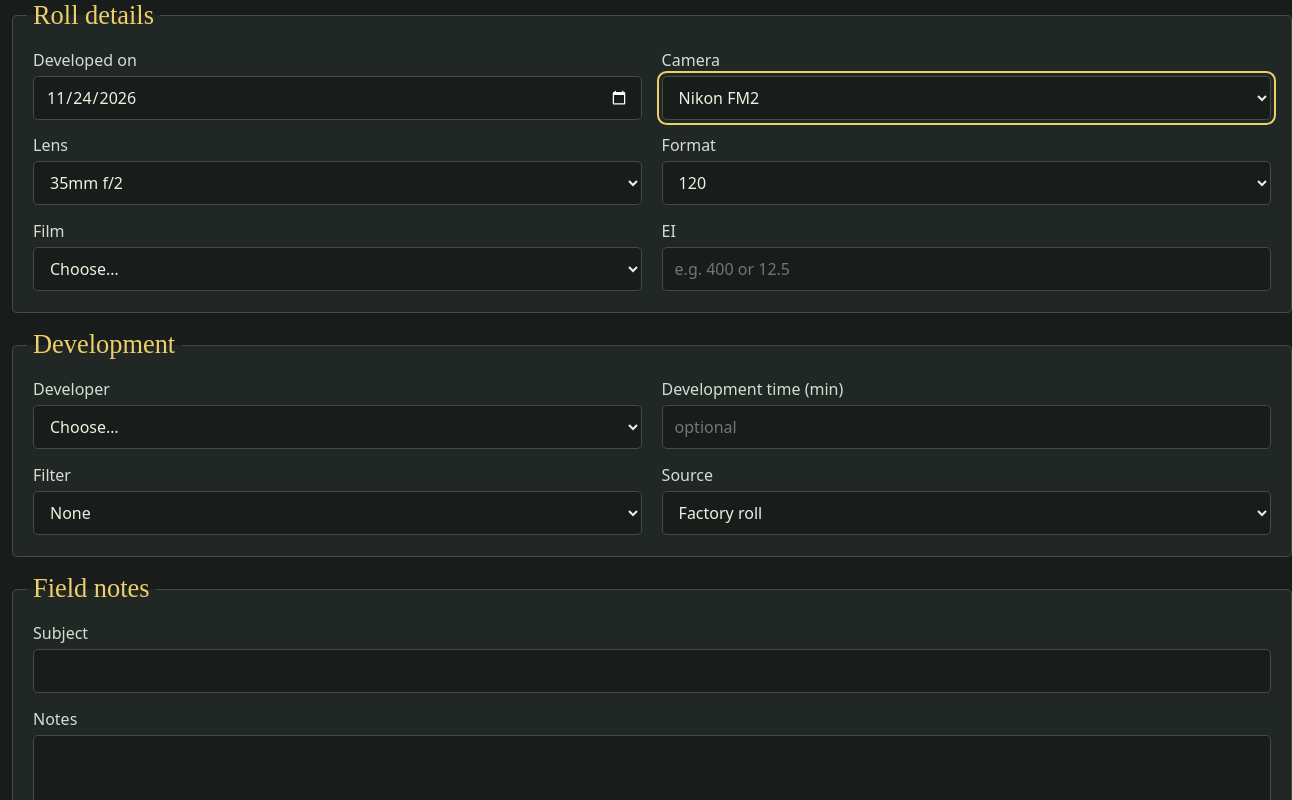
Scenario: after save keeps setup fields and clears subject, notes and dev time
Earlier steps of the test are not shown.
Expected: the dropdown labelled "Lens" shows "35mm f/2", [33, 161, 642, 205]
Step 1. Select "Tri-X" in the dropdown labelled "Film" → (338, 269), box [33, 247, 642, 291]
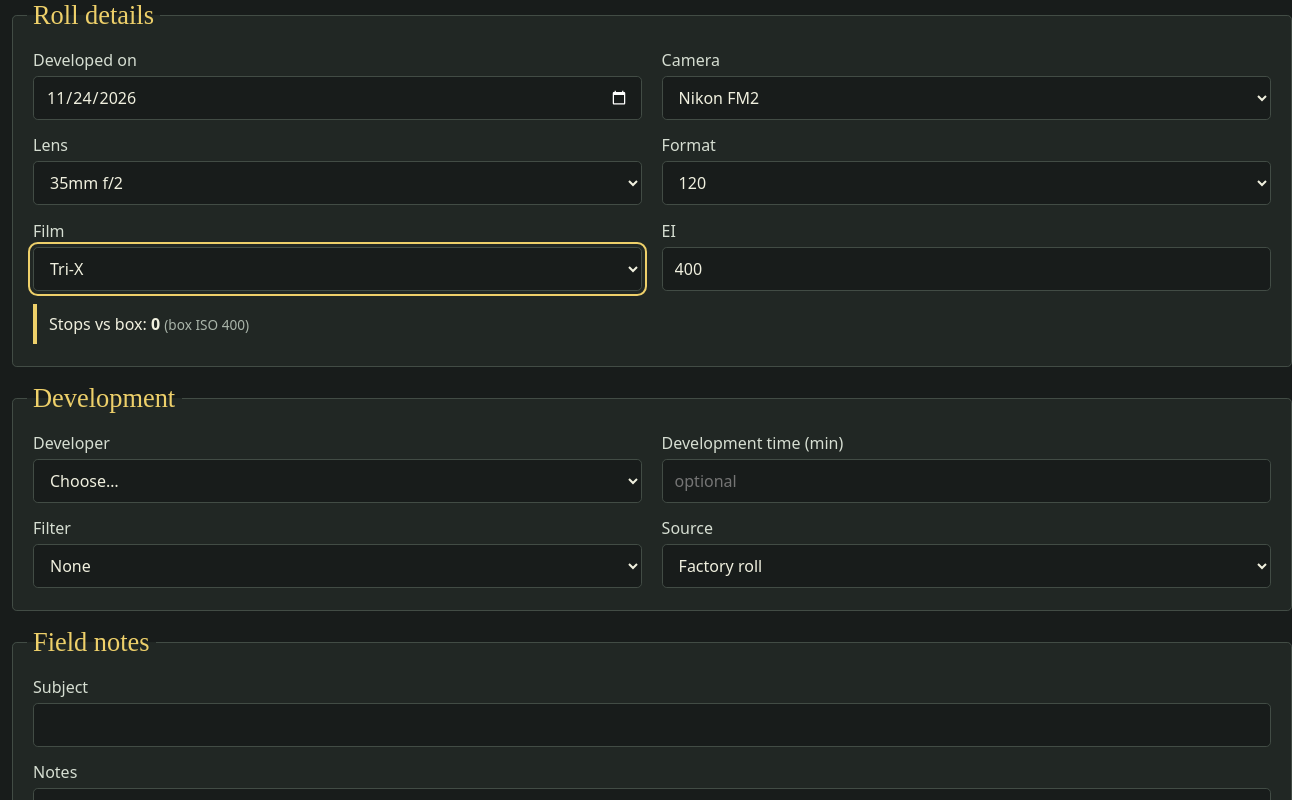
Step 2. Select "HC-110" in the dropdown labelled "Developer" → (338, 481), box [33, 459, 642, 503]
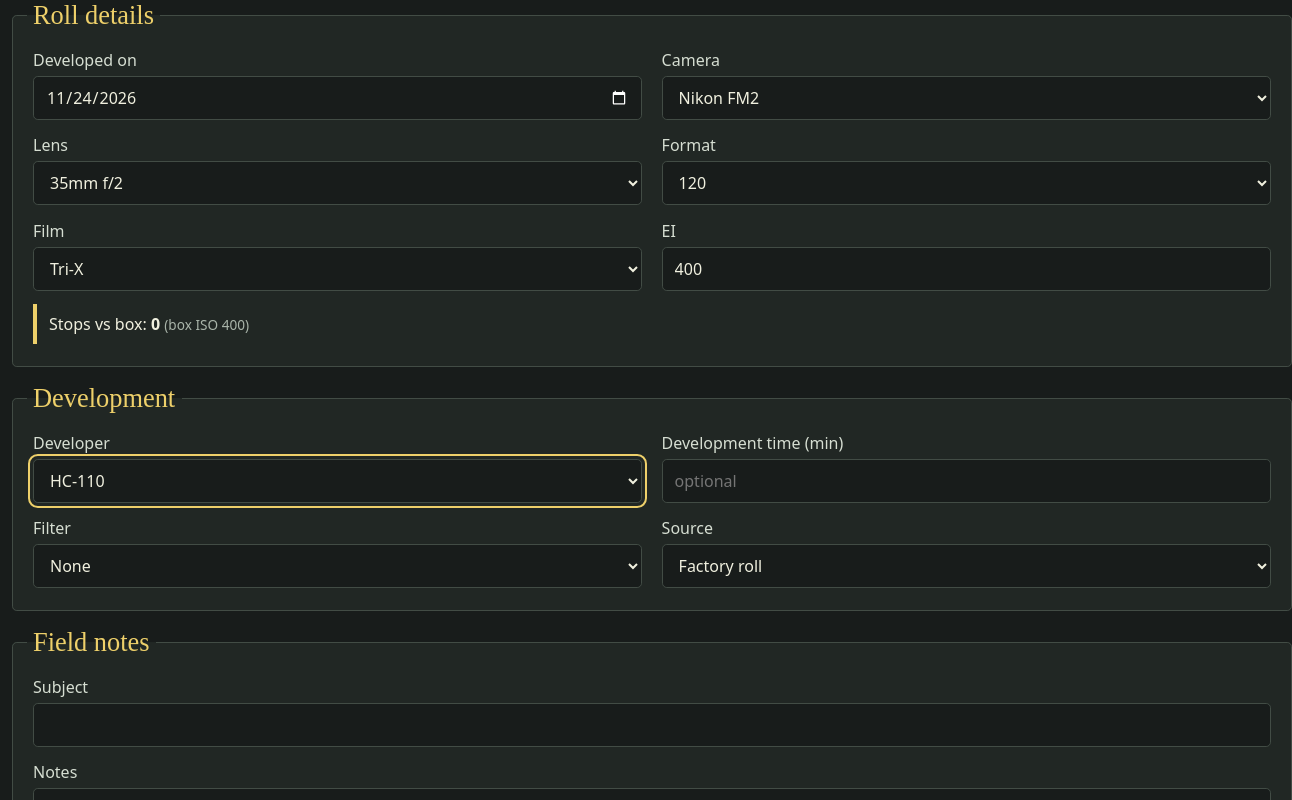
Step 3. Type "9.5" into the field labelled "Development time (min)" → (966, 481), box [662, 459, 1271, 503]
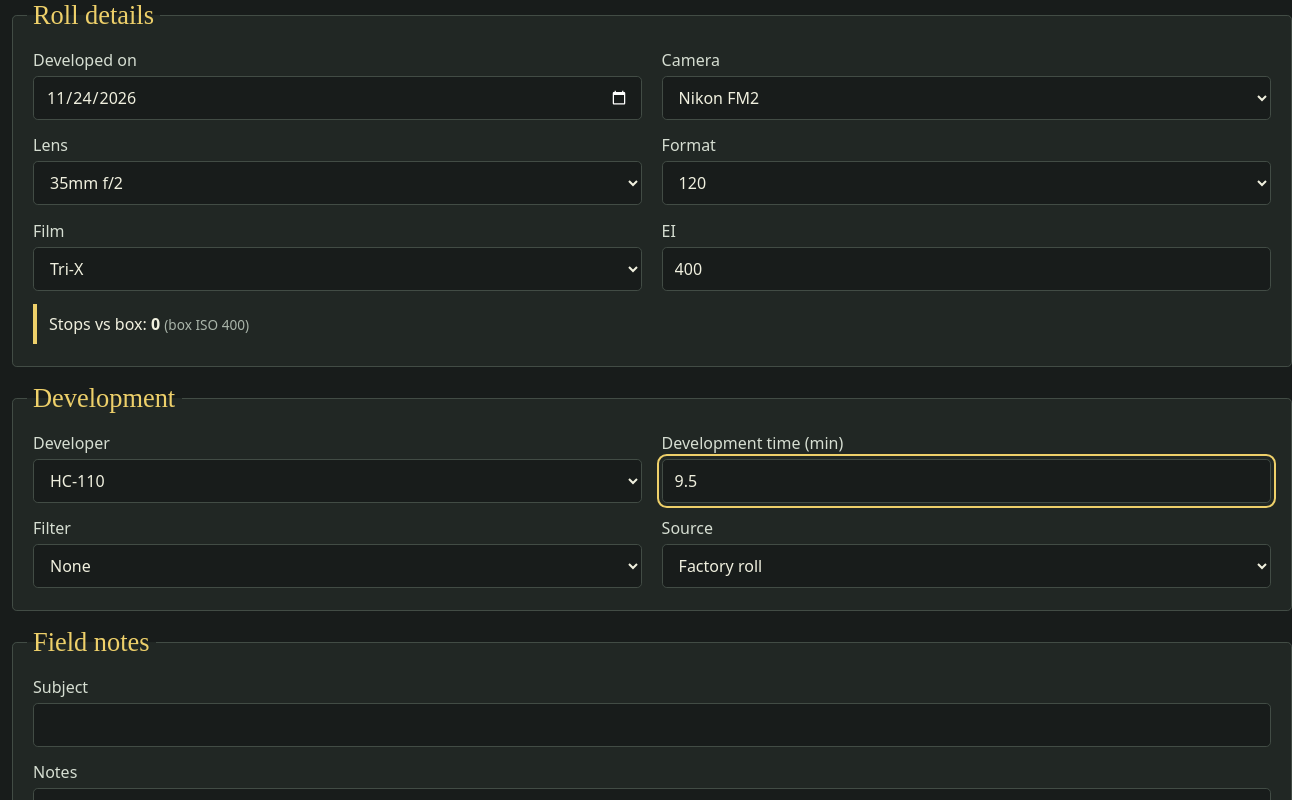
Step 4. Type "Harbour" into the field labelled "Subject" → (652, 725), box [33, 703, 1271, 747]
(page scrolled)
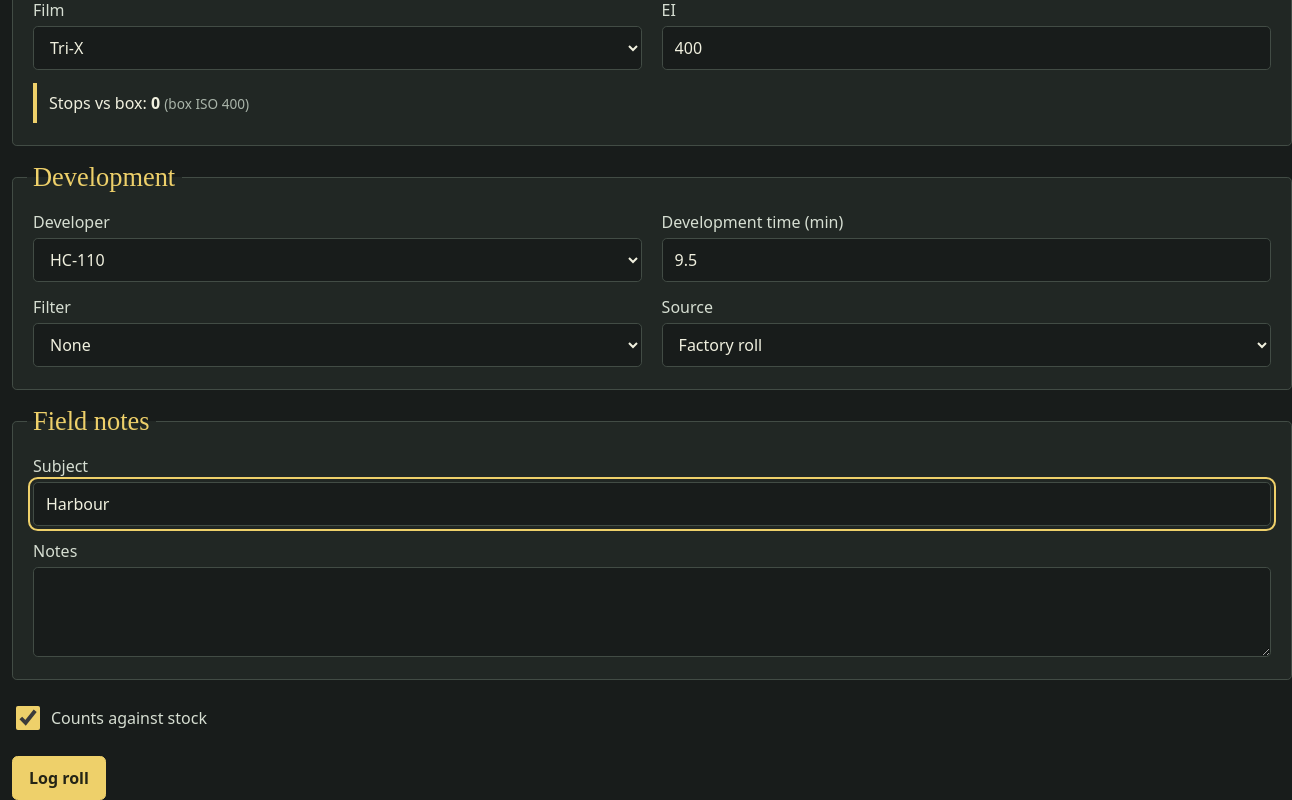
Step 5. Type "Pushed" into the text box labelled "Notes" → (652, 612), box [33, 567, 1271, 657]
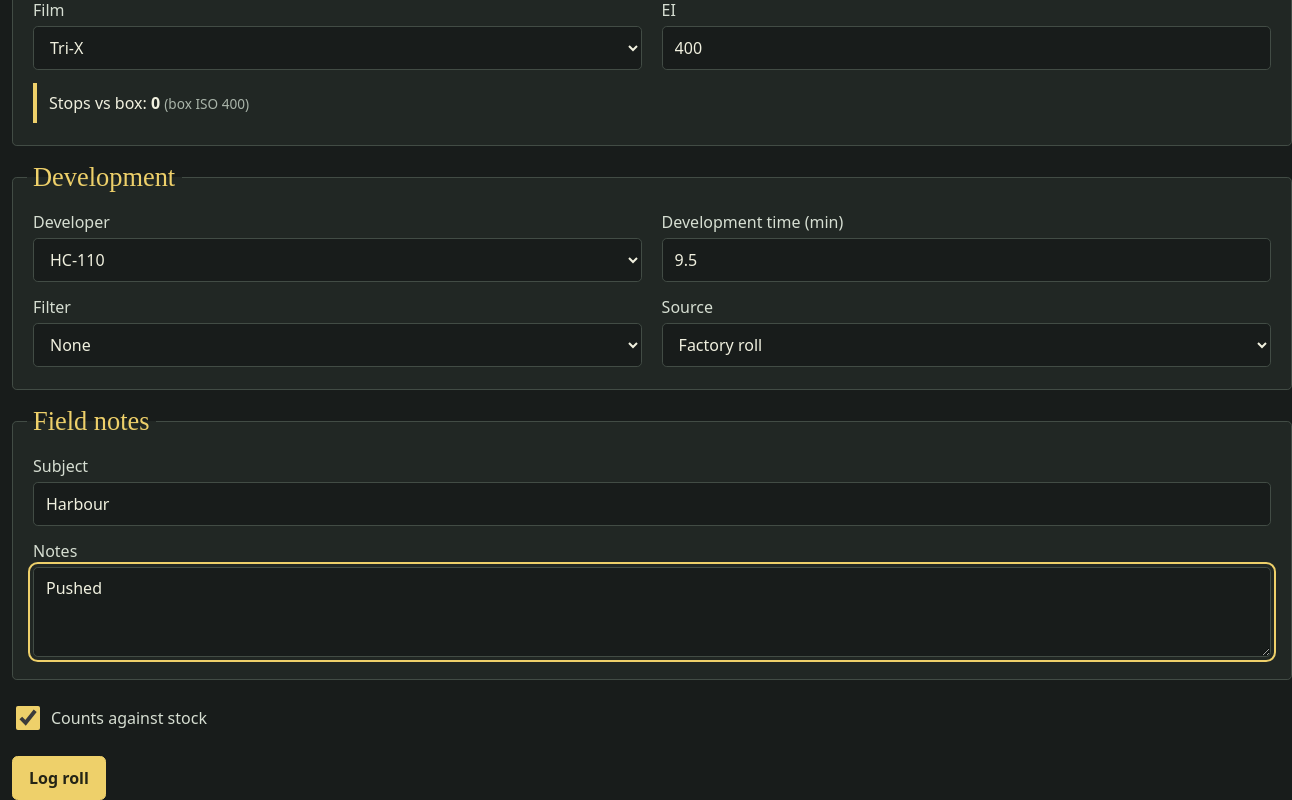
Step 6. Click the button "Log roll" → click(59, 778), box [12, 756, 106, 799]
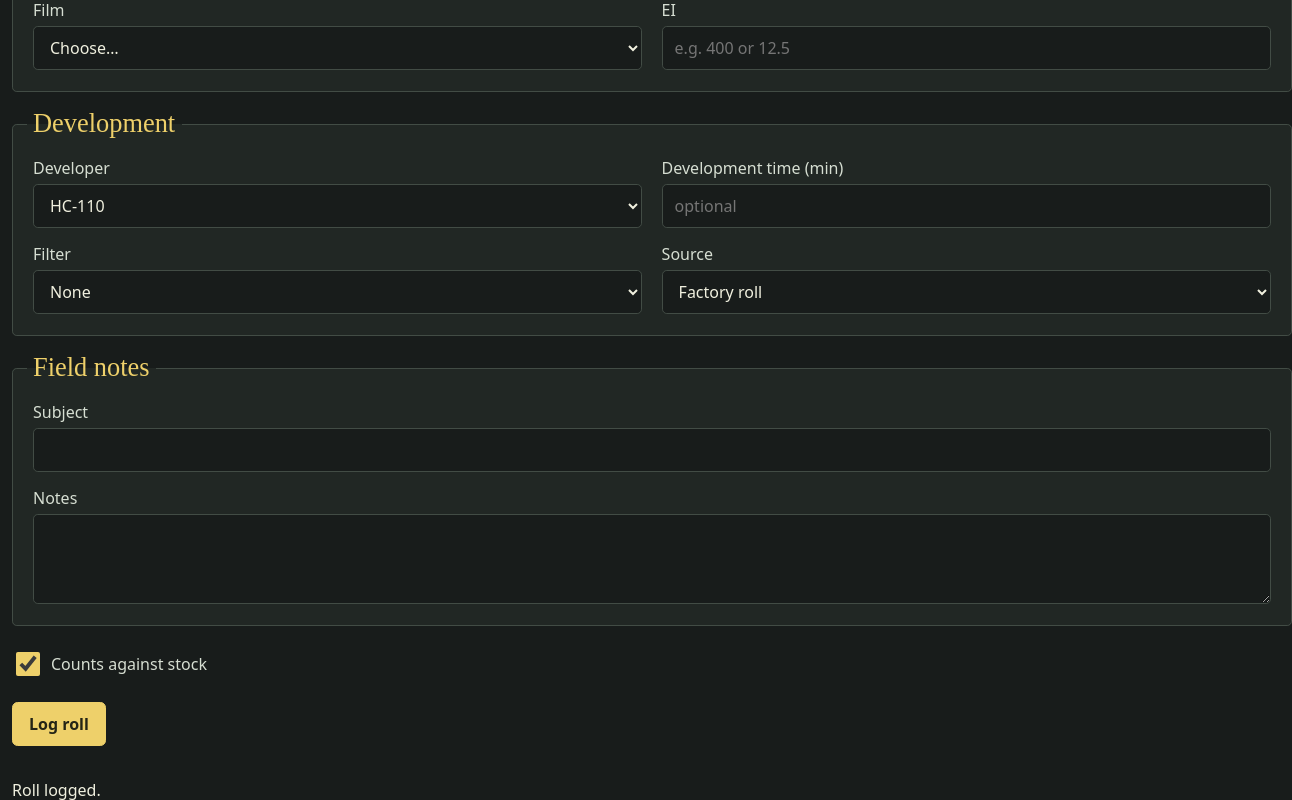
Result: the field labelled "Subject" is empty at [33, 428, 1271, 472]
Result: the text box labelled "Notes" is empty at [33, 514, 1271, 604]
Result: the field labelled "Development time (min)" is empty at [662, 184, 1271, 228]
